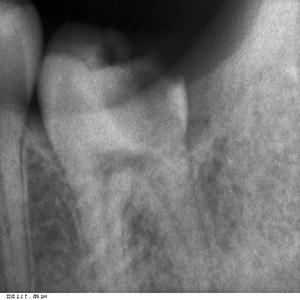tooth: (39, 39, 195, 266), (0, 4, 40, 268)
